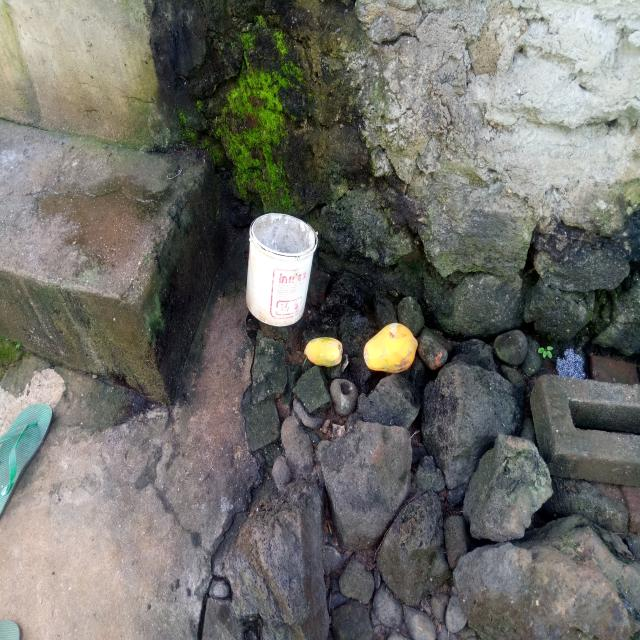Pepaya rippen: (362, 323, 414, 378), (304, 336, 343, 364)
